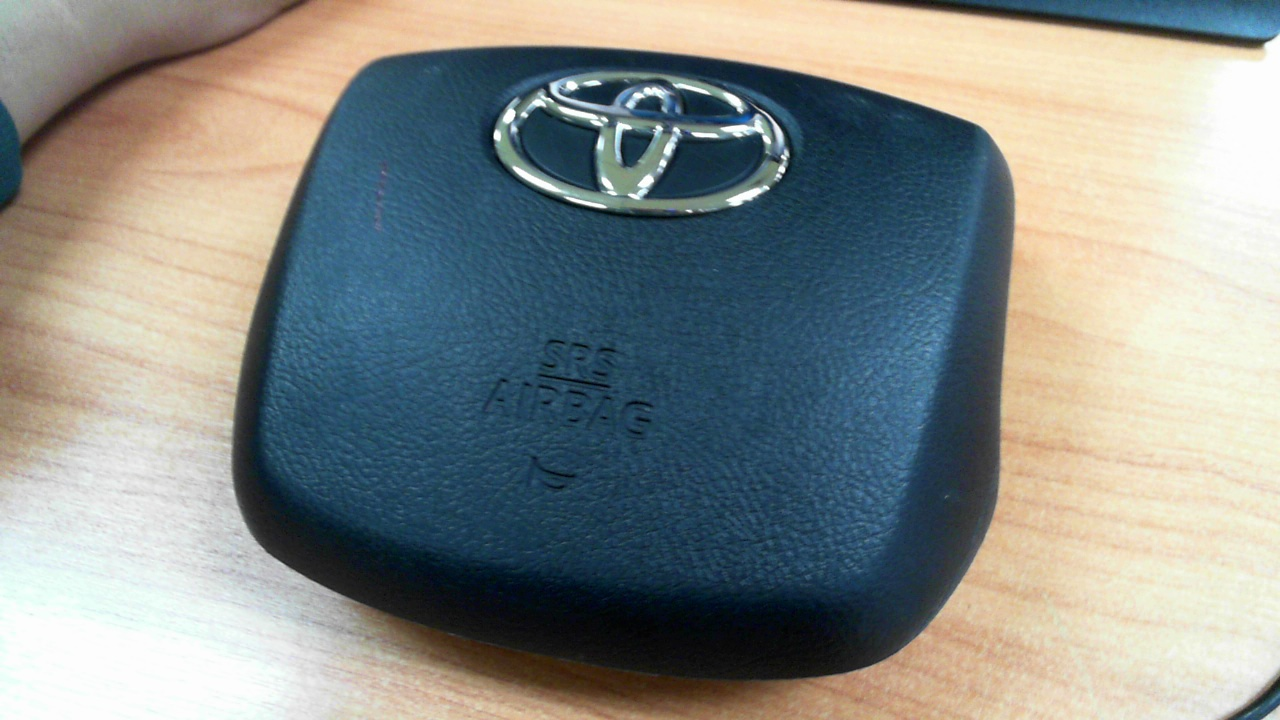Airbag: (233, 47, 1016, 681)
Toyota: (492, 66, 791, 214)
